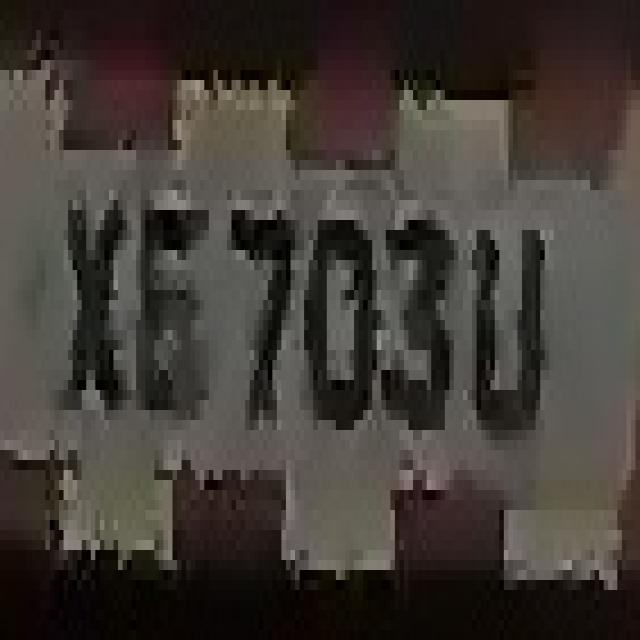0: (300, 200, 381, 460)
3: (372, 170, 454, 440)
7: (222, 160, 295, 450)
E: (127, 180, 204, 430)
U: (463, 180, 554, 460)
X: (55, 150, 132, 460)
